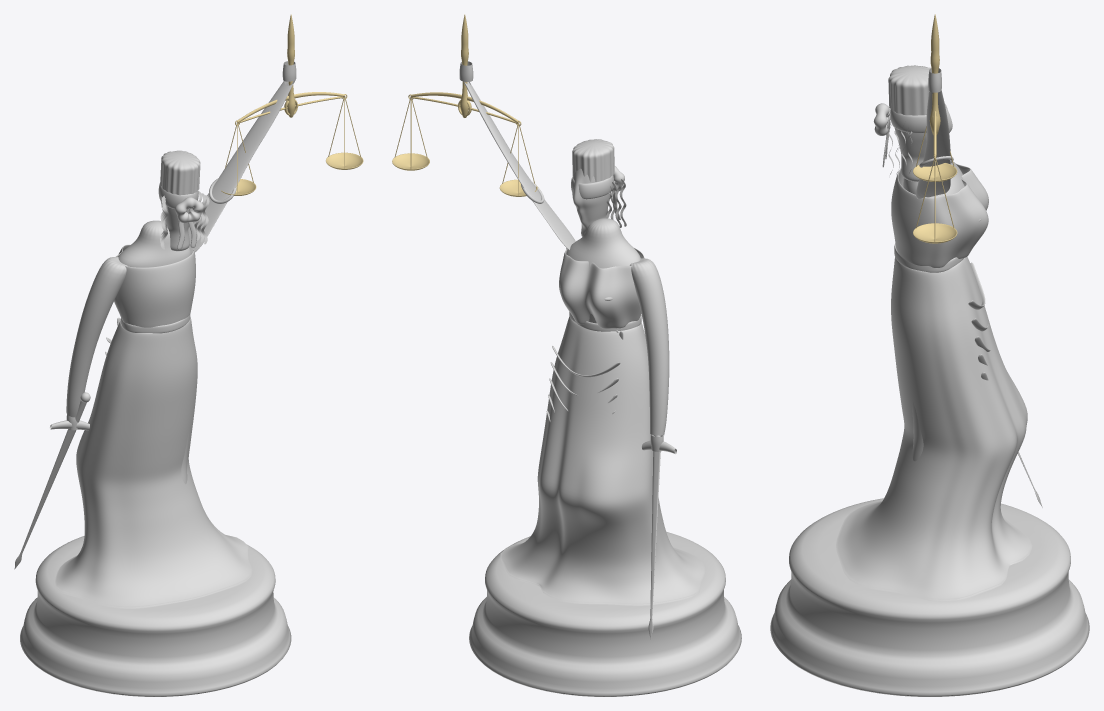
Rendered from LadyJustice.glb.
3 renders of one model, left to right at view 1: azimuth 30°, elevation 25°; view 2: azimuth 150°, elevation 25°; view 3: azimuth 270°, elevation 25°, orthographic. The views are drawn at different scales.
Visible parts, largest first — view 1: Skirt_Drapery, Pedestal, Bodice_Drapery, Left_Arm, Right_Arm, Hair_Sculpt, Torso, Ornamental_Sword, Blindfold, Scale_Crossbeam, Head_Face, Waist_Belt (+1 smaller); view 2: Skirt_Drapery, Pedestal, Bodice_Drapery, Left_Arm, Torso, Hair_Sculpt, Right_Arm, Ornamental_Sword, Head_Face, Scale_Crossbeam, Blindfold, Hip_Swag (+2 smaller); view 3: Skirt_Drapery, Pedestal, Bodice_Drapery, Hair_Sculpt, Right_Arm, Head_Face, Blindfold, Scale_Pan_Right, Scale_Handle, Scale_Pan_Left, Hip_Swag, Torso.
Boxes of the visible parts, x1,y1,x2,y2 form: Skirt_Drapery: [55, 317, 252, 608]; Pedestal: [20, 536, 291, 696]; Bodice_Drapery: [114, 244, 195, 327]; Left_Arm: [66, 257, 127, 430]; Right_Arm: [188, 61, 296, 254]; Hair_Sculpt: [160, 150, 209, 249]; Torso: [118, 220, 190, 267]; Ornamental_Sword: [14, 392, 90, 569]; Blindfold: [158, 182, 198, 249]; Scale_Crossbeam: [235, 92, 347, 125]; Head_Face: [161, 194, 189, 251]; Waist_Belt: [117, 314, 190, 333]; Skirt_Drapery: [500, 316, 705, 605]; Pedestal: [469, 532, 741, 696]; Bodice_Drapery: [559, 240, 644, 328]; Left_Arm: [629, 258, 669, 451]; Torso: [566, 218, 640, 323]; Hair_Sculpt: [572, 139, 626, 227]; Right_Arm: [459, 61, 575, 249]; Ornamental_Sword: [642, 435, 676, 638]; Head_Face: [572, 168, 611, 236]; Scale_Crossbeam: [408, 92, 521, 126]; Blindfold: [571, 175, 620, 220]; Hip_Swag: [546, 346, 620, 421]; Skirt_Drapery: [836, 256, 1032, 601]; Pedestal: [770, 498, 1089, 696]; Bodice_Drapery: [891, 163, 988, 268]; Hair_Sculpt: [873, 65, 930, 174]; Right_Arm: [916, 68, 950, 198]; Head_Face: [894, 105, 952, 181]; Blindfold: [882, 104, 947, 167]; Scale_Pan_Right: [913, 223, 957, 243]; Scale_Handle: [929, 14, 940, 134]; Scale_Pan_Left: [913, 163, 957, 181]; Hip_Swag: [968, 262, 990, 380]; Torso: [903, 162, 964, 197].
Bounding box in the file's own units: 1.7 × 2.96 × 1.23.
